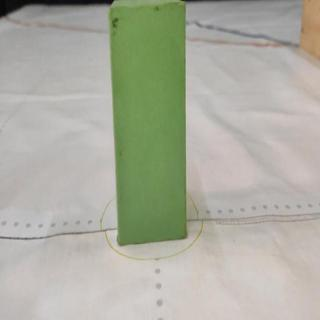greenbox: (108, 2, 187, 241)
